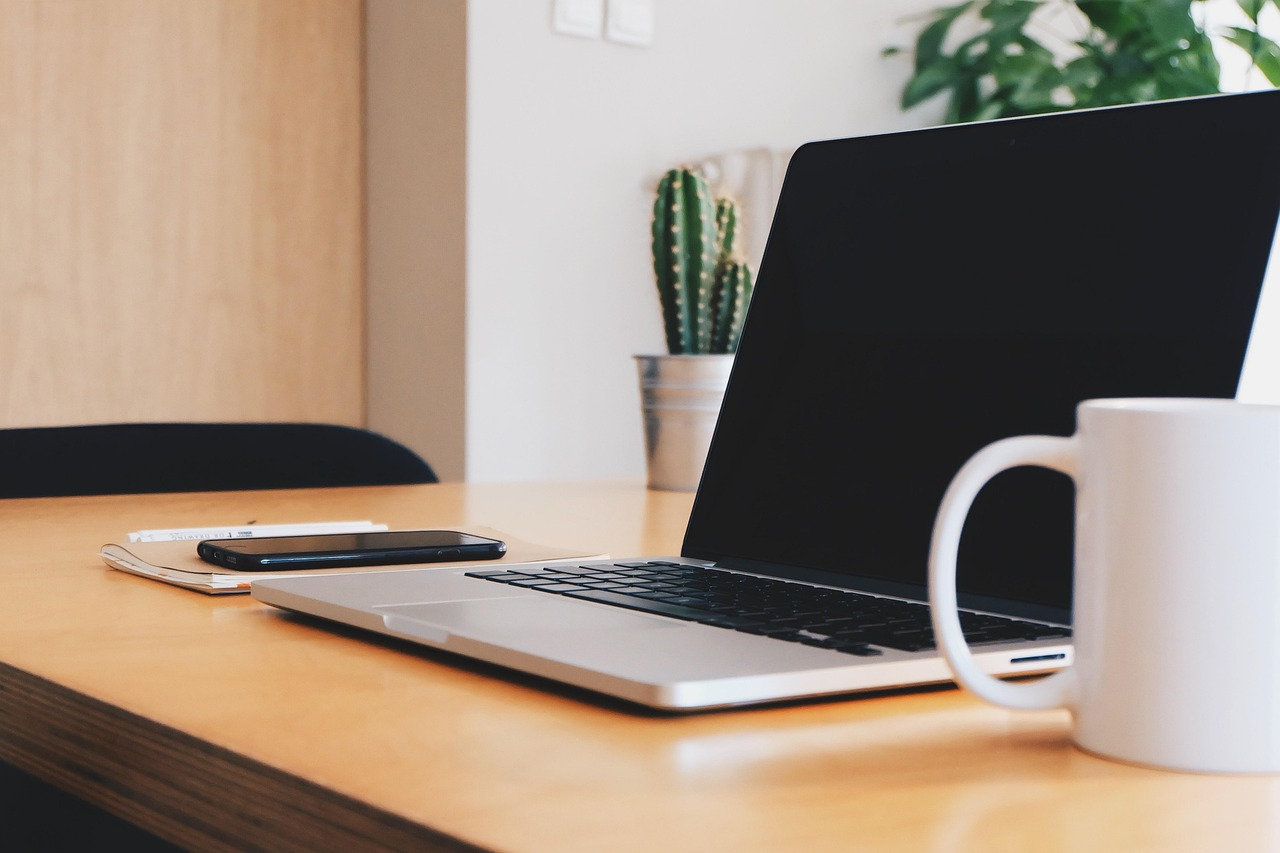mug: (897, 360, 1280, 798)
